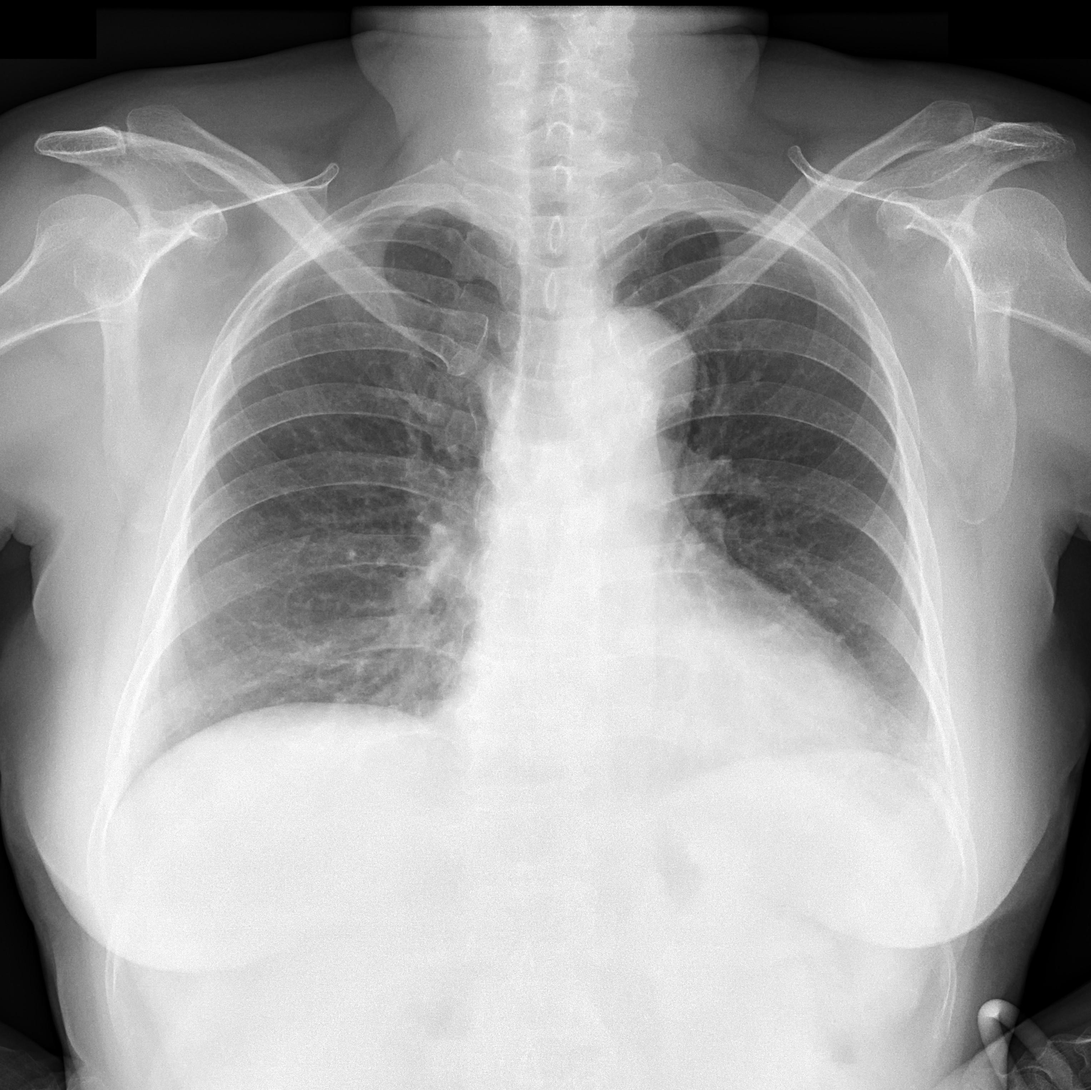Aortic enlargement: (562, 307, 699, 452)
Cardiomegaly: (425, 637, 883, 766)
Pleural thickening: (344, 200, 464, 232), (652, 207, 768, 234)
